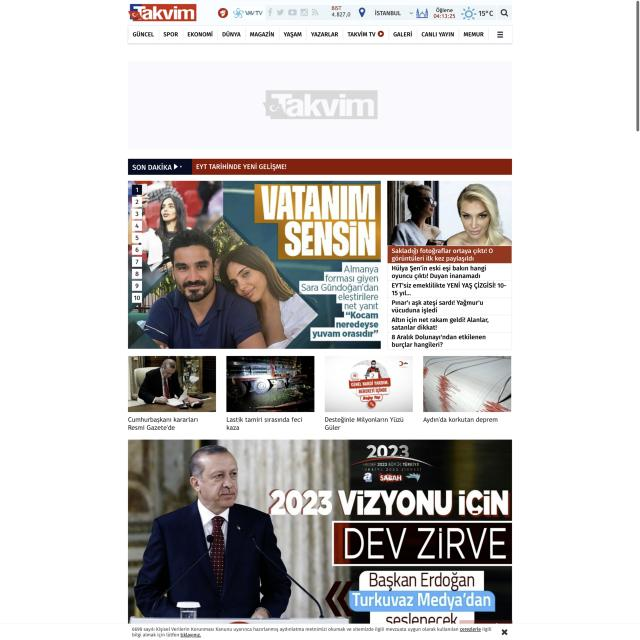logo: (128, 4, 197, 22)
navigation: (127, 25, 513, 44), (496, 30, 504, 39)
